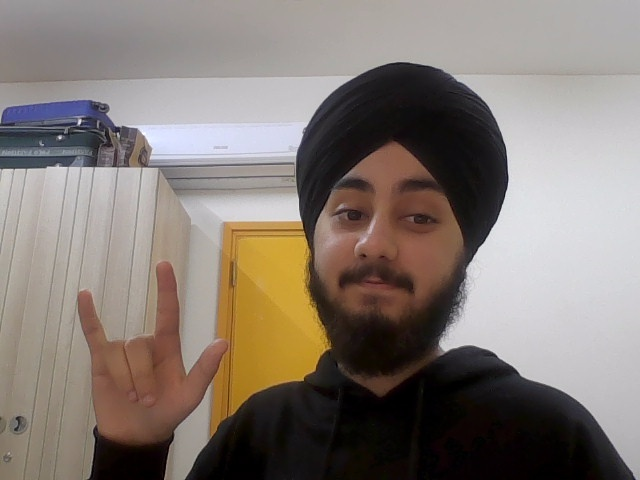ILoveYou: (64, 260, 238, 446)
